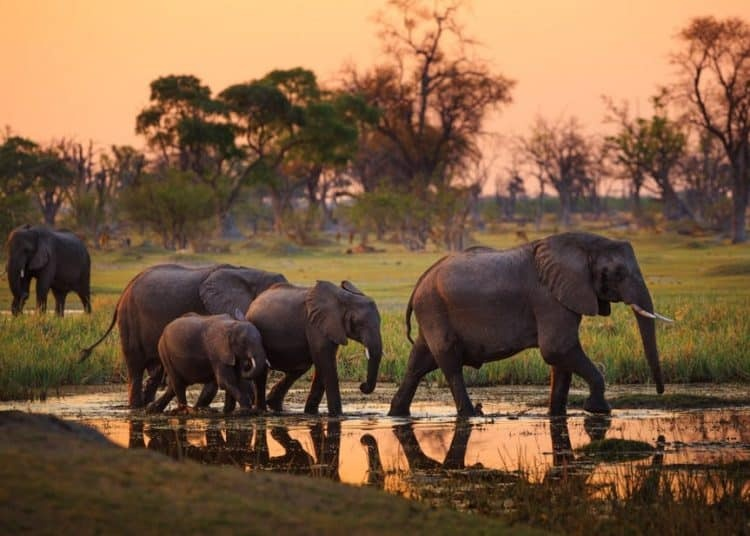elephant: (534, 318, 750, 507), (204, 339, 386, 490), (313, 346, 455, 490), (212, 366, 328, 478), (47, 269, 137, 360)
